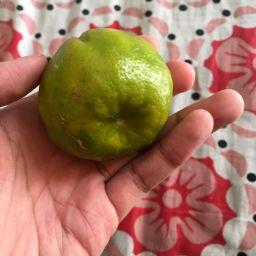Unripe: (36, 28, 179, 161)
